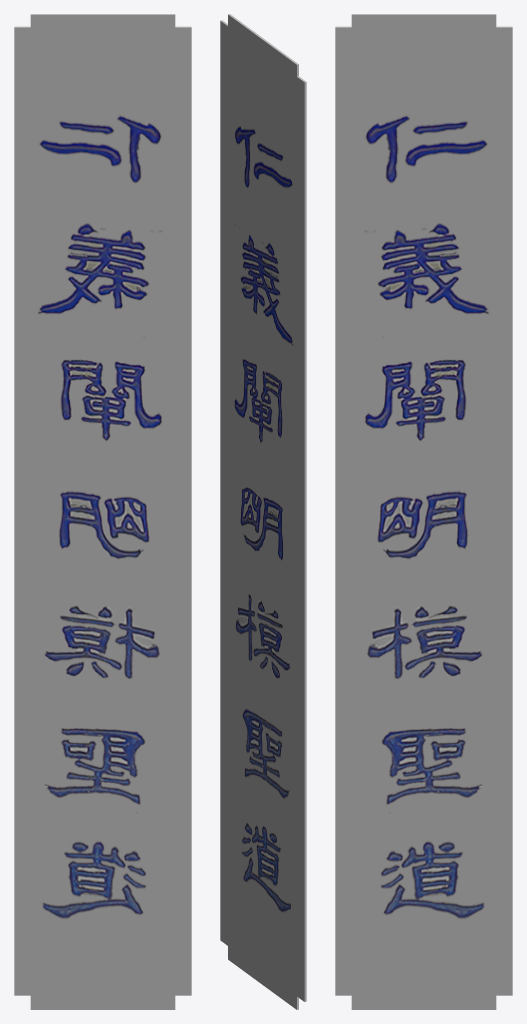
The model's file is SM_Unhyun_Iro_Joo_C001.fbx.
3 views of the same model, side by side, from view 1: azimuth 90°, elevation 25°; view 2: azimuth 210°, elevation 25°; view 3: azimuth 270°, elevation 25° (orthographic). The views are drawn at different scales.
Parts seen in each view (by area): view 1: SM_Unhyun_Iro_Joo_C001; view 2: SM_Unhyun_Iro_Joo_C001; view 3: SM_Unhyun_Iro_Joo_C001.
Boxes of the visible parts, x1,y1,x2,y2 form: SM_Unhyun_Iro_Joo_C001: [14, 14, 191, 1009]; SM_Unhyun_Iro_Joo_C001: [220, 14, 306, 1009]; SM_Unhyun_Iro_Joo_C001: [335, 14, 512, 1009].
Bounding box in the file's own units: 0.2 × 90.01 × 14.56.
